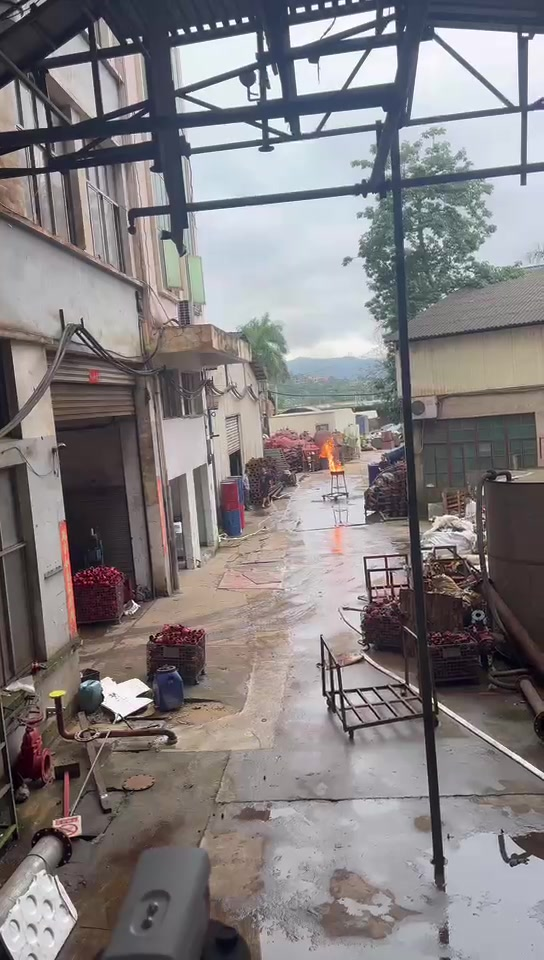fire: (320, 439, 344, 471)
